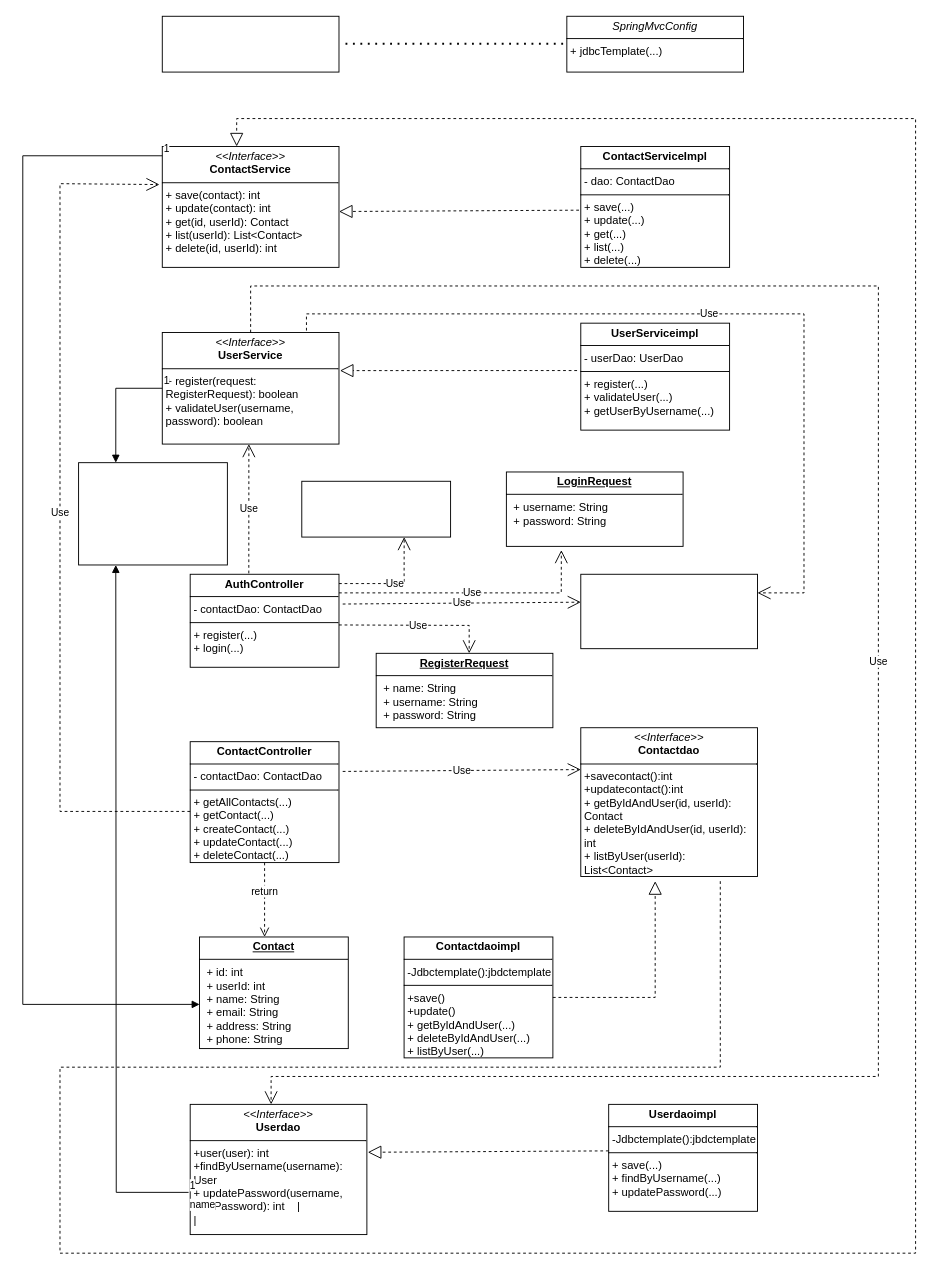
This 945x1282 diagram has some shape labels left out. The shapes that lost their labels are listed below. From the top down, each one's centre as x and y in pixels, then its label:
At point (250, 43): "WebAppInitializer + onStartup(servletContext)".
At point (152, 513): "User + id: int + name: String + username: String + password: String".
At point (376, 508): "AuthResponse + token: String".
At point (668, 611): "JwtUtil + generateToken(...) + extractUsername(...) + extractUserId(...)".
